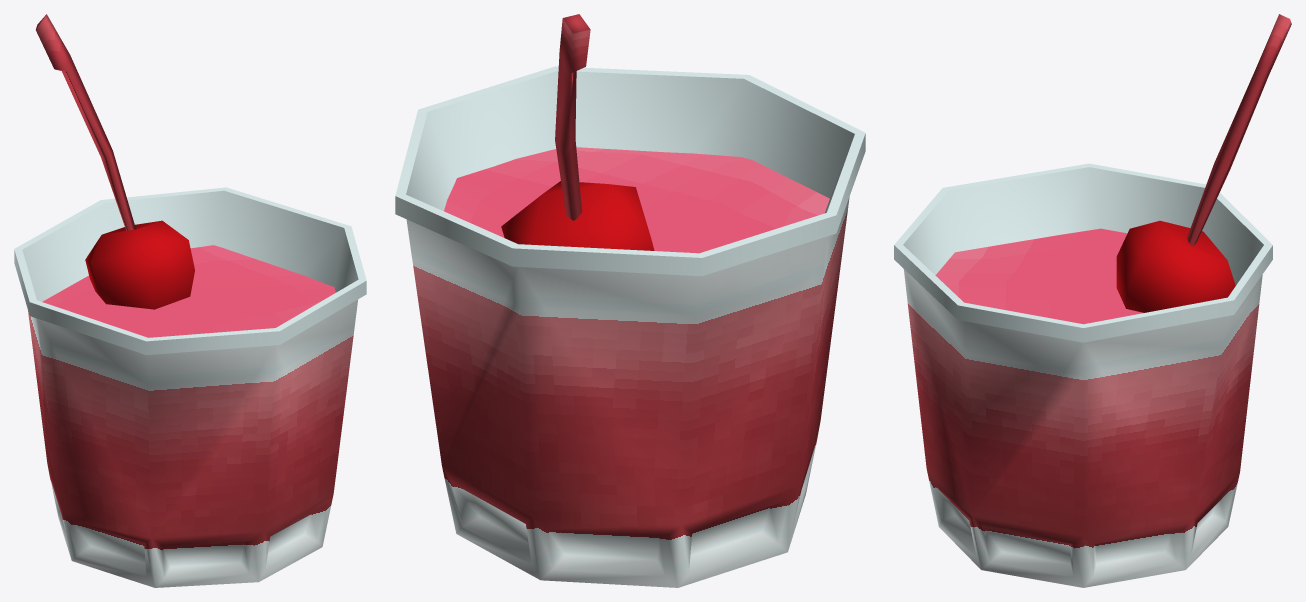
File: LowballGlass_Smoothie.fbx
The picture shows the model from 3 angles, left to right: view 1: azimuth 30°, elevation 25°; view 2: azimuth 150°, elevation 25°; view 3: azimuth 270°, elevation 25°; orthographic projection. The views are drawn at different scales.
Parts seen in each view (by area): view 1: LowballGlassLiquid.003; view 2: LowballGlassLiquid.003; view 3: LowballGlassLiquid.003.
Part boxes in pixels (x1,y1,x2,y2): LowballGlassLiquid.003: (14, 14, 366, 587); LowballGlassLiquid.003: (395, 14, 865, 587); LowballGlassLiquid.003: (894, 14, 1291, 587).
Size of the model in its own units: 19.99 by 27.47 by 20.41.
